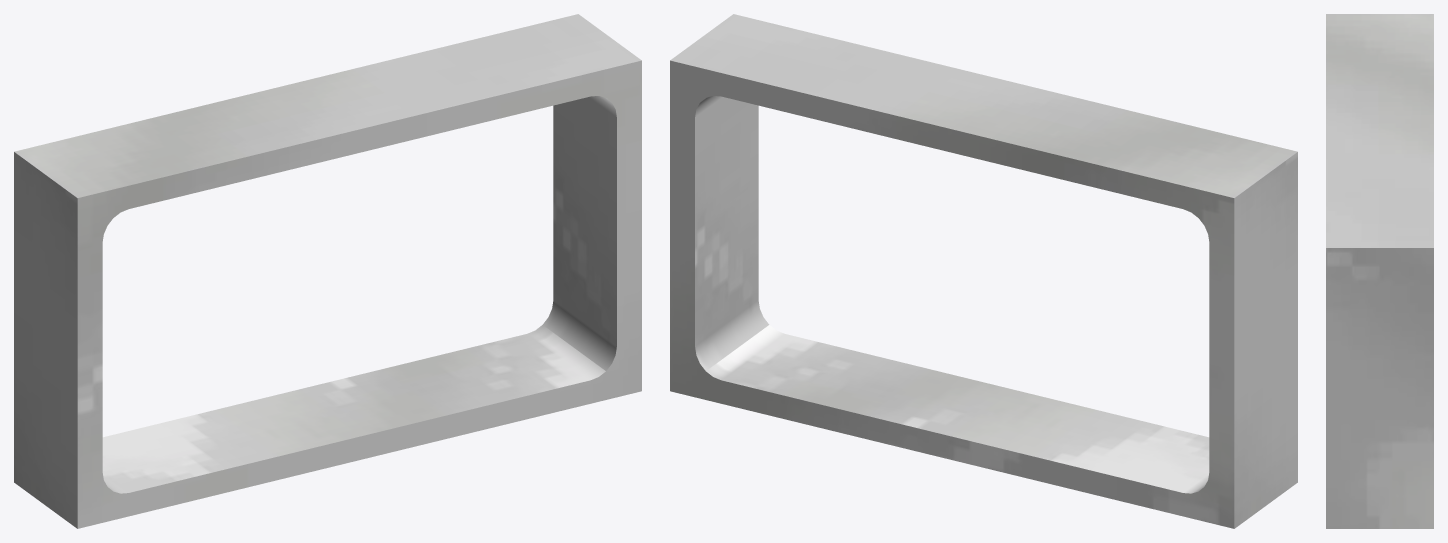
Rendered from BigWindowWall.fbx.
The picture shows the model from 3 angles, left to right: view 1: azimuth 30°, elevation 25°; view 2: azimuth 150°, elevation 25°; view 3: azimuth 270°, elevation 25°; orthographic projection. The views are drawn at different scales.
Parts seen in each view (by area): view 1: pCube243; view 2: pCube243; view 3: pCube243.
Part boxes in pixels (<box>): pCube243: <box>14,14,641,528</box>; pCube243: <box>670,14,1297,528</box>; pCube243: <box>1326,14,1433,528</box>.
Size of the model in its own units: 2000 by 1120 by 390.
1 material, 1 textured.
